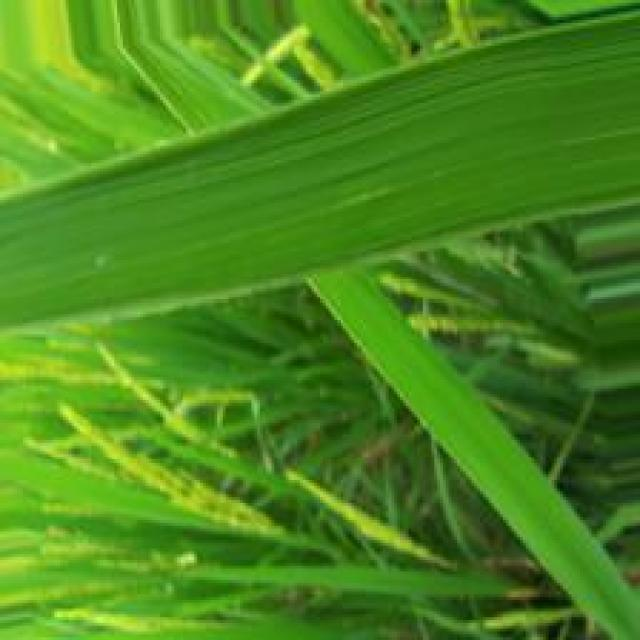HealthyLeaf: (2, 22, 635, 322)
